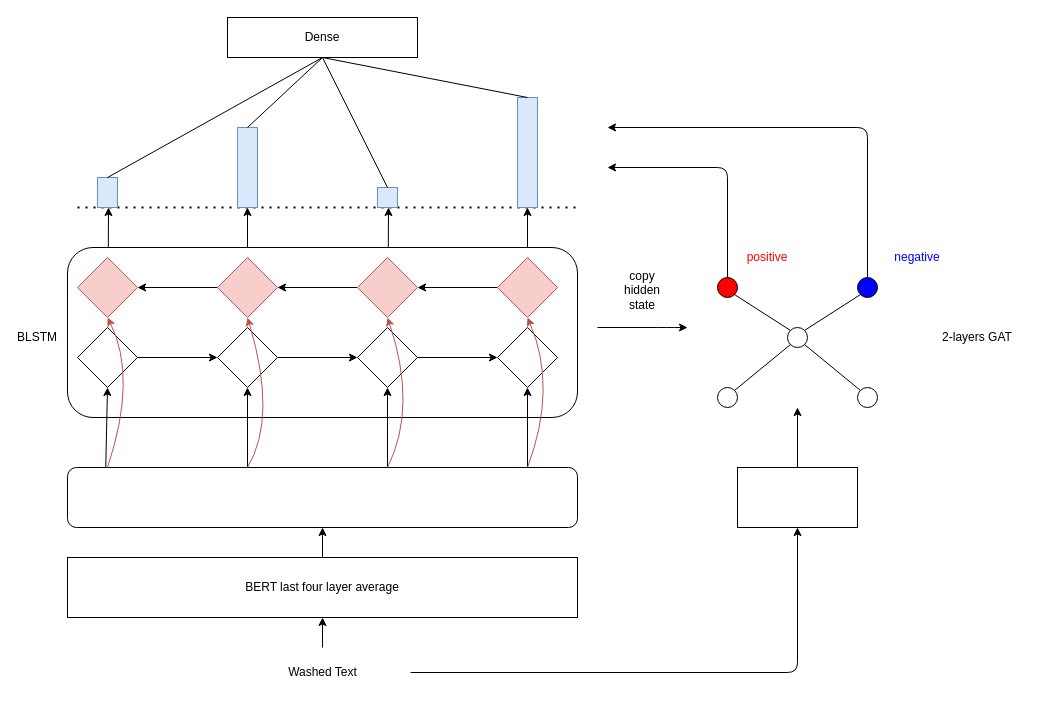
Some shapes in this 1044 by 715 pixel diagram are drawn without their labels. Here are the shapes that lost their labels. From the top down, the centre of each, then its label:
the point at 322,497: Embedding Layer
the point at 797,497: Spacy & SWN
